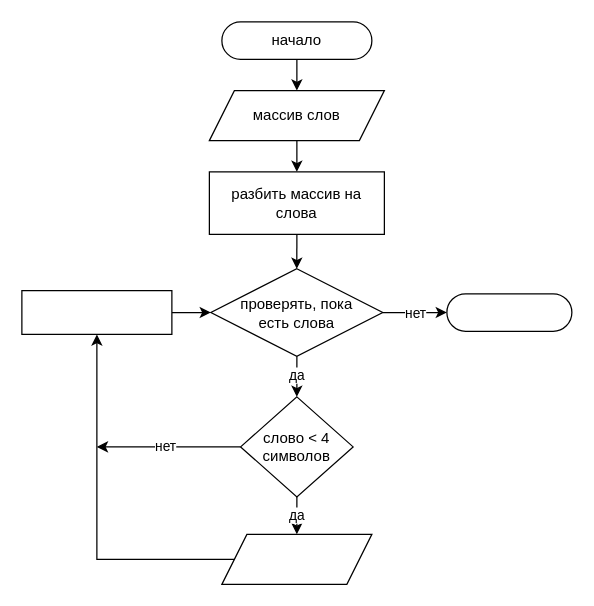
Some shapes in this 594 by 606 pixel diagram are drawn without their labels. The centre of each missing label's shape, as x and y in pixels:
"вывод на экран" belongs at (296,558).
"конец" belongs at (509,311).
"следующее слово" belongs at (96,311).
